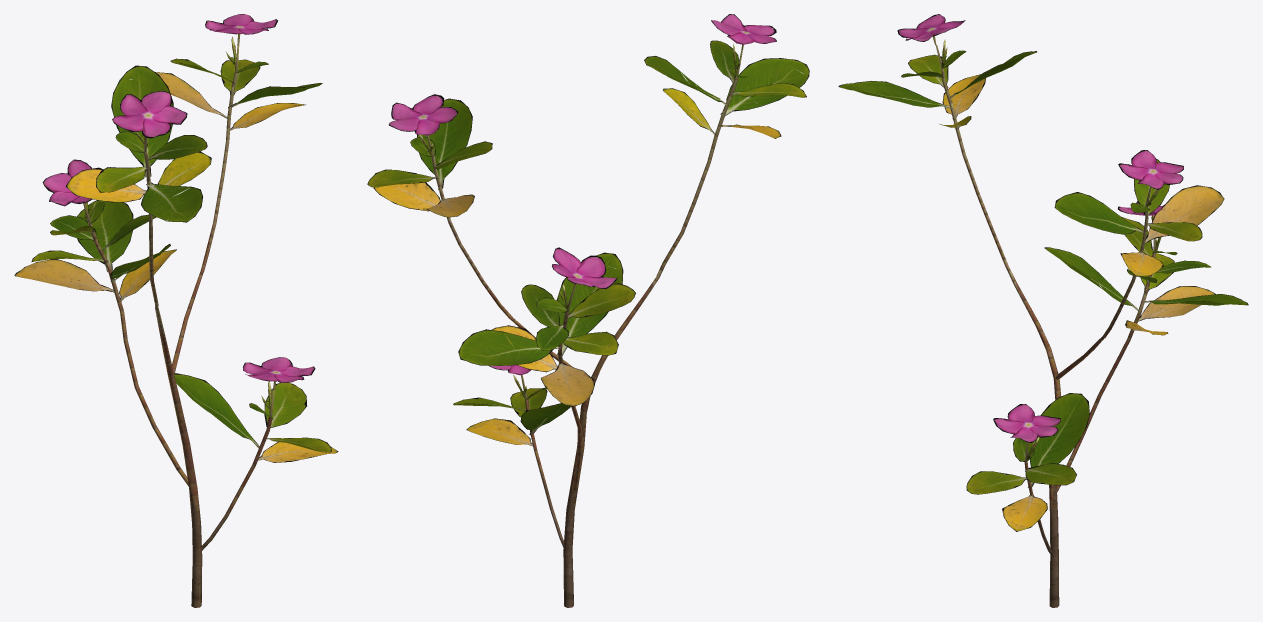
File: periwinkle_plant_3.gltf
3 views of the same model, side by side, from view 1: azimuth 30°, elevation 25°; view 2: azimuth 150°, elevation 25°; view 3: azimuth 270°, elevation 25° (orthographic). The views are drawn at different scales.
Parts seen in each view (by area): view 1: periwinkle_plant_04_LOD0; view 2: periwinkle_plant_04_LOD0; view 3: periwinkle_plant_04_LOD0.
Boxes of the visible parts, x1=… form: periwinkle_plant_04_LOD0: x1=14, y1=14, x2=338, y2=607; periwinkle_plant_04_LOD0: x1=367, y1=14, x2=809, y2=607; periwinkle_plant_04_LOD0: x1=838, y1=14, x2=1248, y2=607.
Size of the model in its own units: 0.1558 by 0.265 by 0.1842.
1 material, 1 textured.
